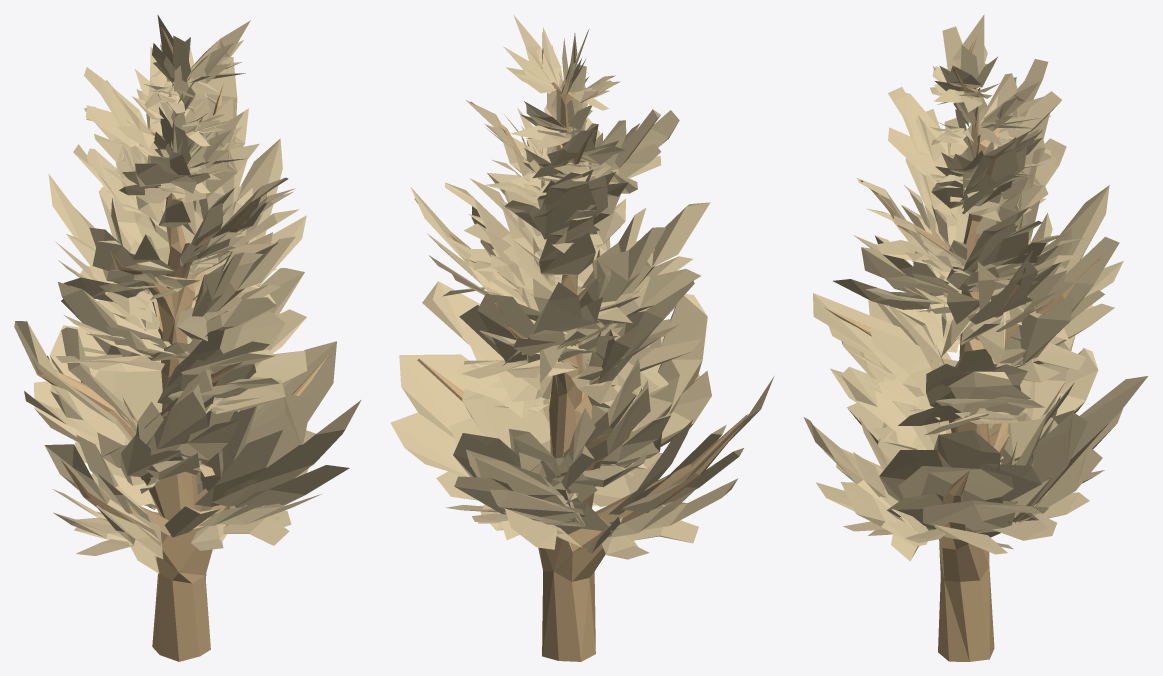
Rendered from DriedtulipA-3.fbx.
3 views of the same model, side by side, from view 1: azimuth 30°, elevation 25°; view 2: azimuth 150°, elevation 25°; view 3: azimuth 270°, elevation 25° (orthographic).
Visible parts, largest first — view 1: leaves.003, trunk.003; view 2: leaves.003, trunk.003; view 3: leaves.003, trunk.003.
Part boxes in pixels (box(x1,y1,x2,y2)): leaves.003: box(14, 14, 361, 573); trunk.003: box(32, 27, 330, 661); leaves.003: box(390, 14, 774, 559); trunk.003: box(414, 41, 748, 661); leaves.003: box(803, 14, 1147, 561); trunk.003: box(824, 37, 1100, 661).
Size of the model in its own units: 432 by 817 by 405.
